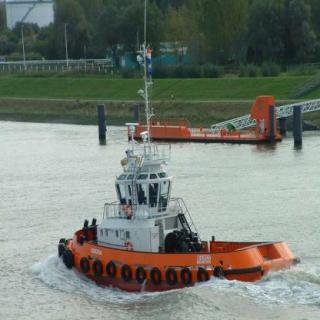Tug Boat: (54, 134, 301, 294)
